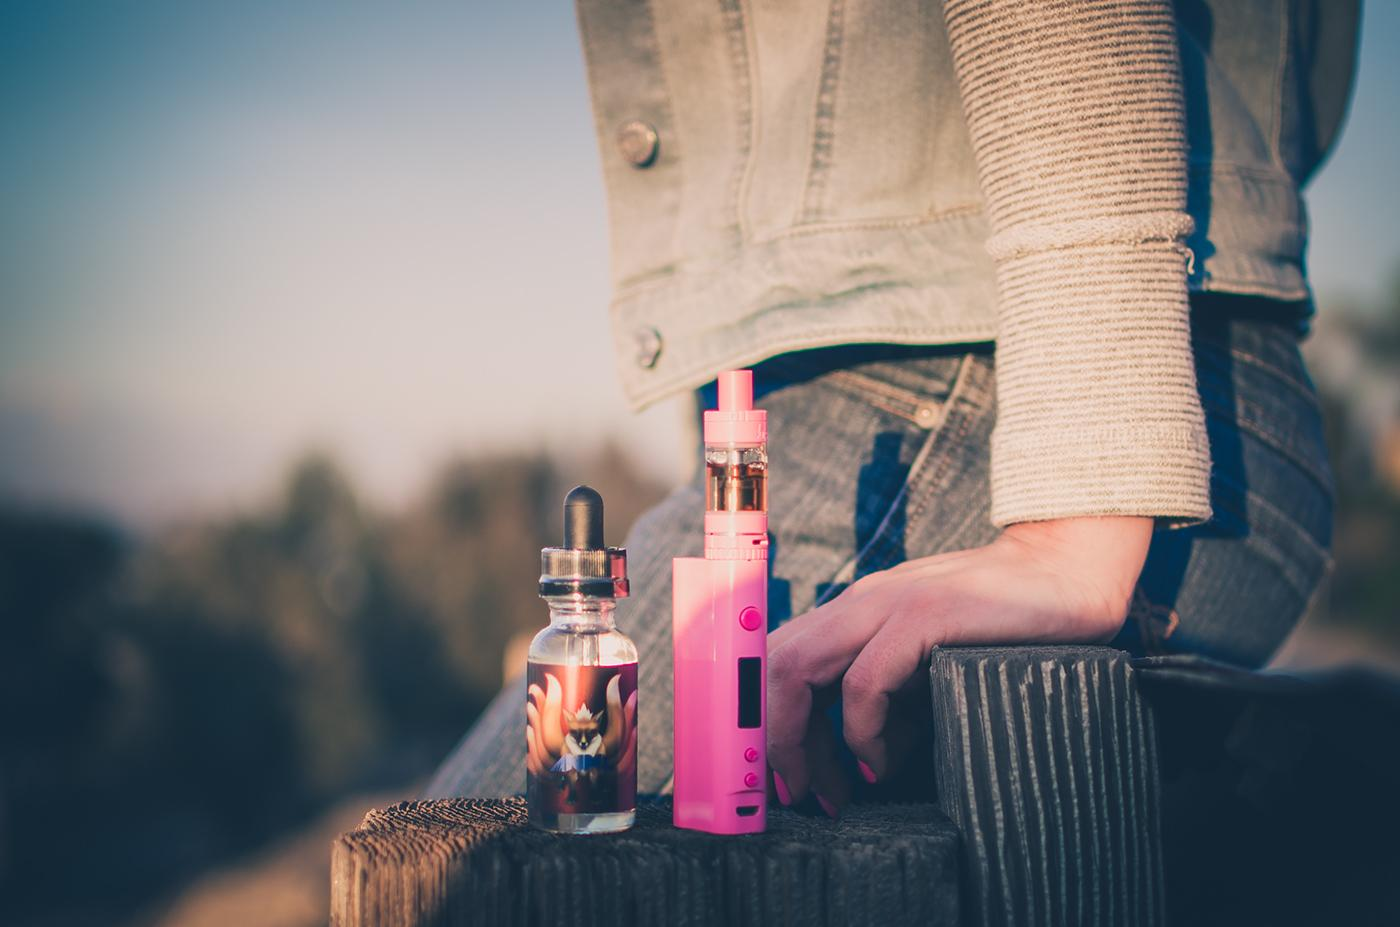Vape: (673, 370, 766, 833)
